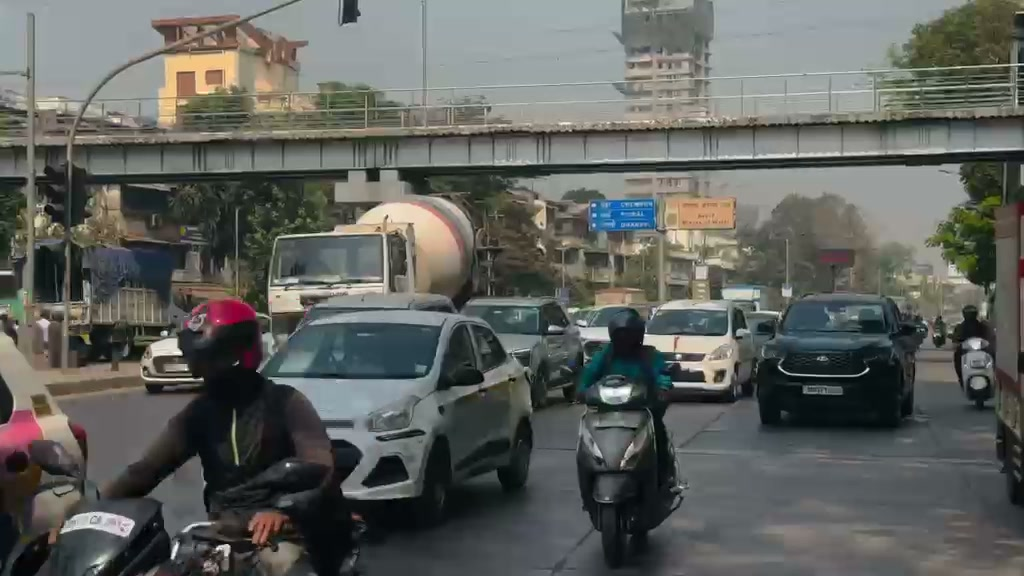car: (260, 295, 536, 529), (754, 292, 918, 428), (462, 298, 586, 409), (643, 299, 756, 402), (571, 305, 652, 362), (140, 329, 204, 394), (743, 308, 781, 376)
motorcycle: (566, 369, 686, 568), (164, 511, 371, 575), (955, 338, 996, 410)
pedestrian: (98, 296, 349, 571), (571, 307, 685, 492), (573, 308, 673, 409), (950, 305, 997, 384), (951, 304, 996, 353), (34, 310, 50, 359)
truck: (266, 194, 479, 344), (28, 236, 182, 365)
